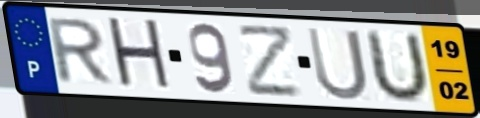9: (185, 20, 236, 95)
H: (103, 15, 176, 95)
R: (46, 17, 117, 87)
U: (303, 24, 372, 103), (364, 27, 432, 105)
Z: (235, 24, 304, 99)
